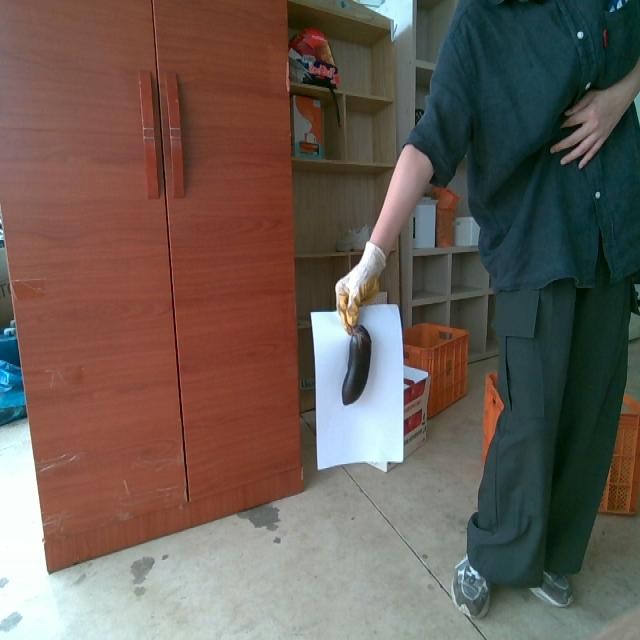Egg plant: (342, 325, 370, 404)
